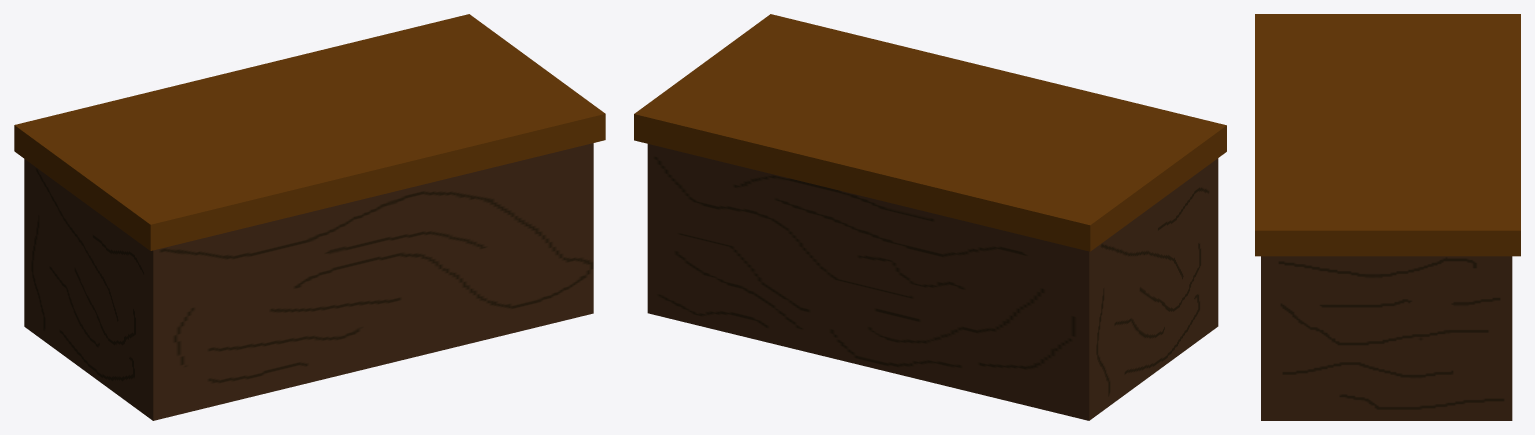
The model's file is chest.gltf.
The picture shows the model from 3 angles, left to right: view 1: azimuth 30°, elevation 25°; view 2: azimuth 150°, elevation 25°; view 3: azimuth 270°, elevation 25°; orthographic projection. The views are drawn at different scales.
Parts seen in each view (by area): view 1: Cube, Cube.001; view 2: Cube, Cube.001; view 3: Cube.001, Cube.
Part boxes in pixels (box(x1,y1,x2,y2)): Cube: box(24, 143, 593, 420); Cube.001: box(14, 14, 605, 250); Cube: box(647, 144, 1218, 420); Cube.001: box(634, 14, 1226, 251); Cube.001: box(1255, 14, 1520, 256); Cube: box(1261, 256, 1512, 420).
Size of the model in its own units: 3.15 by 1.32 by 1.64.
2 materials, 2 textured.
